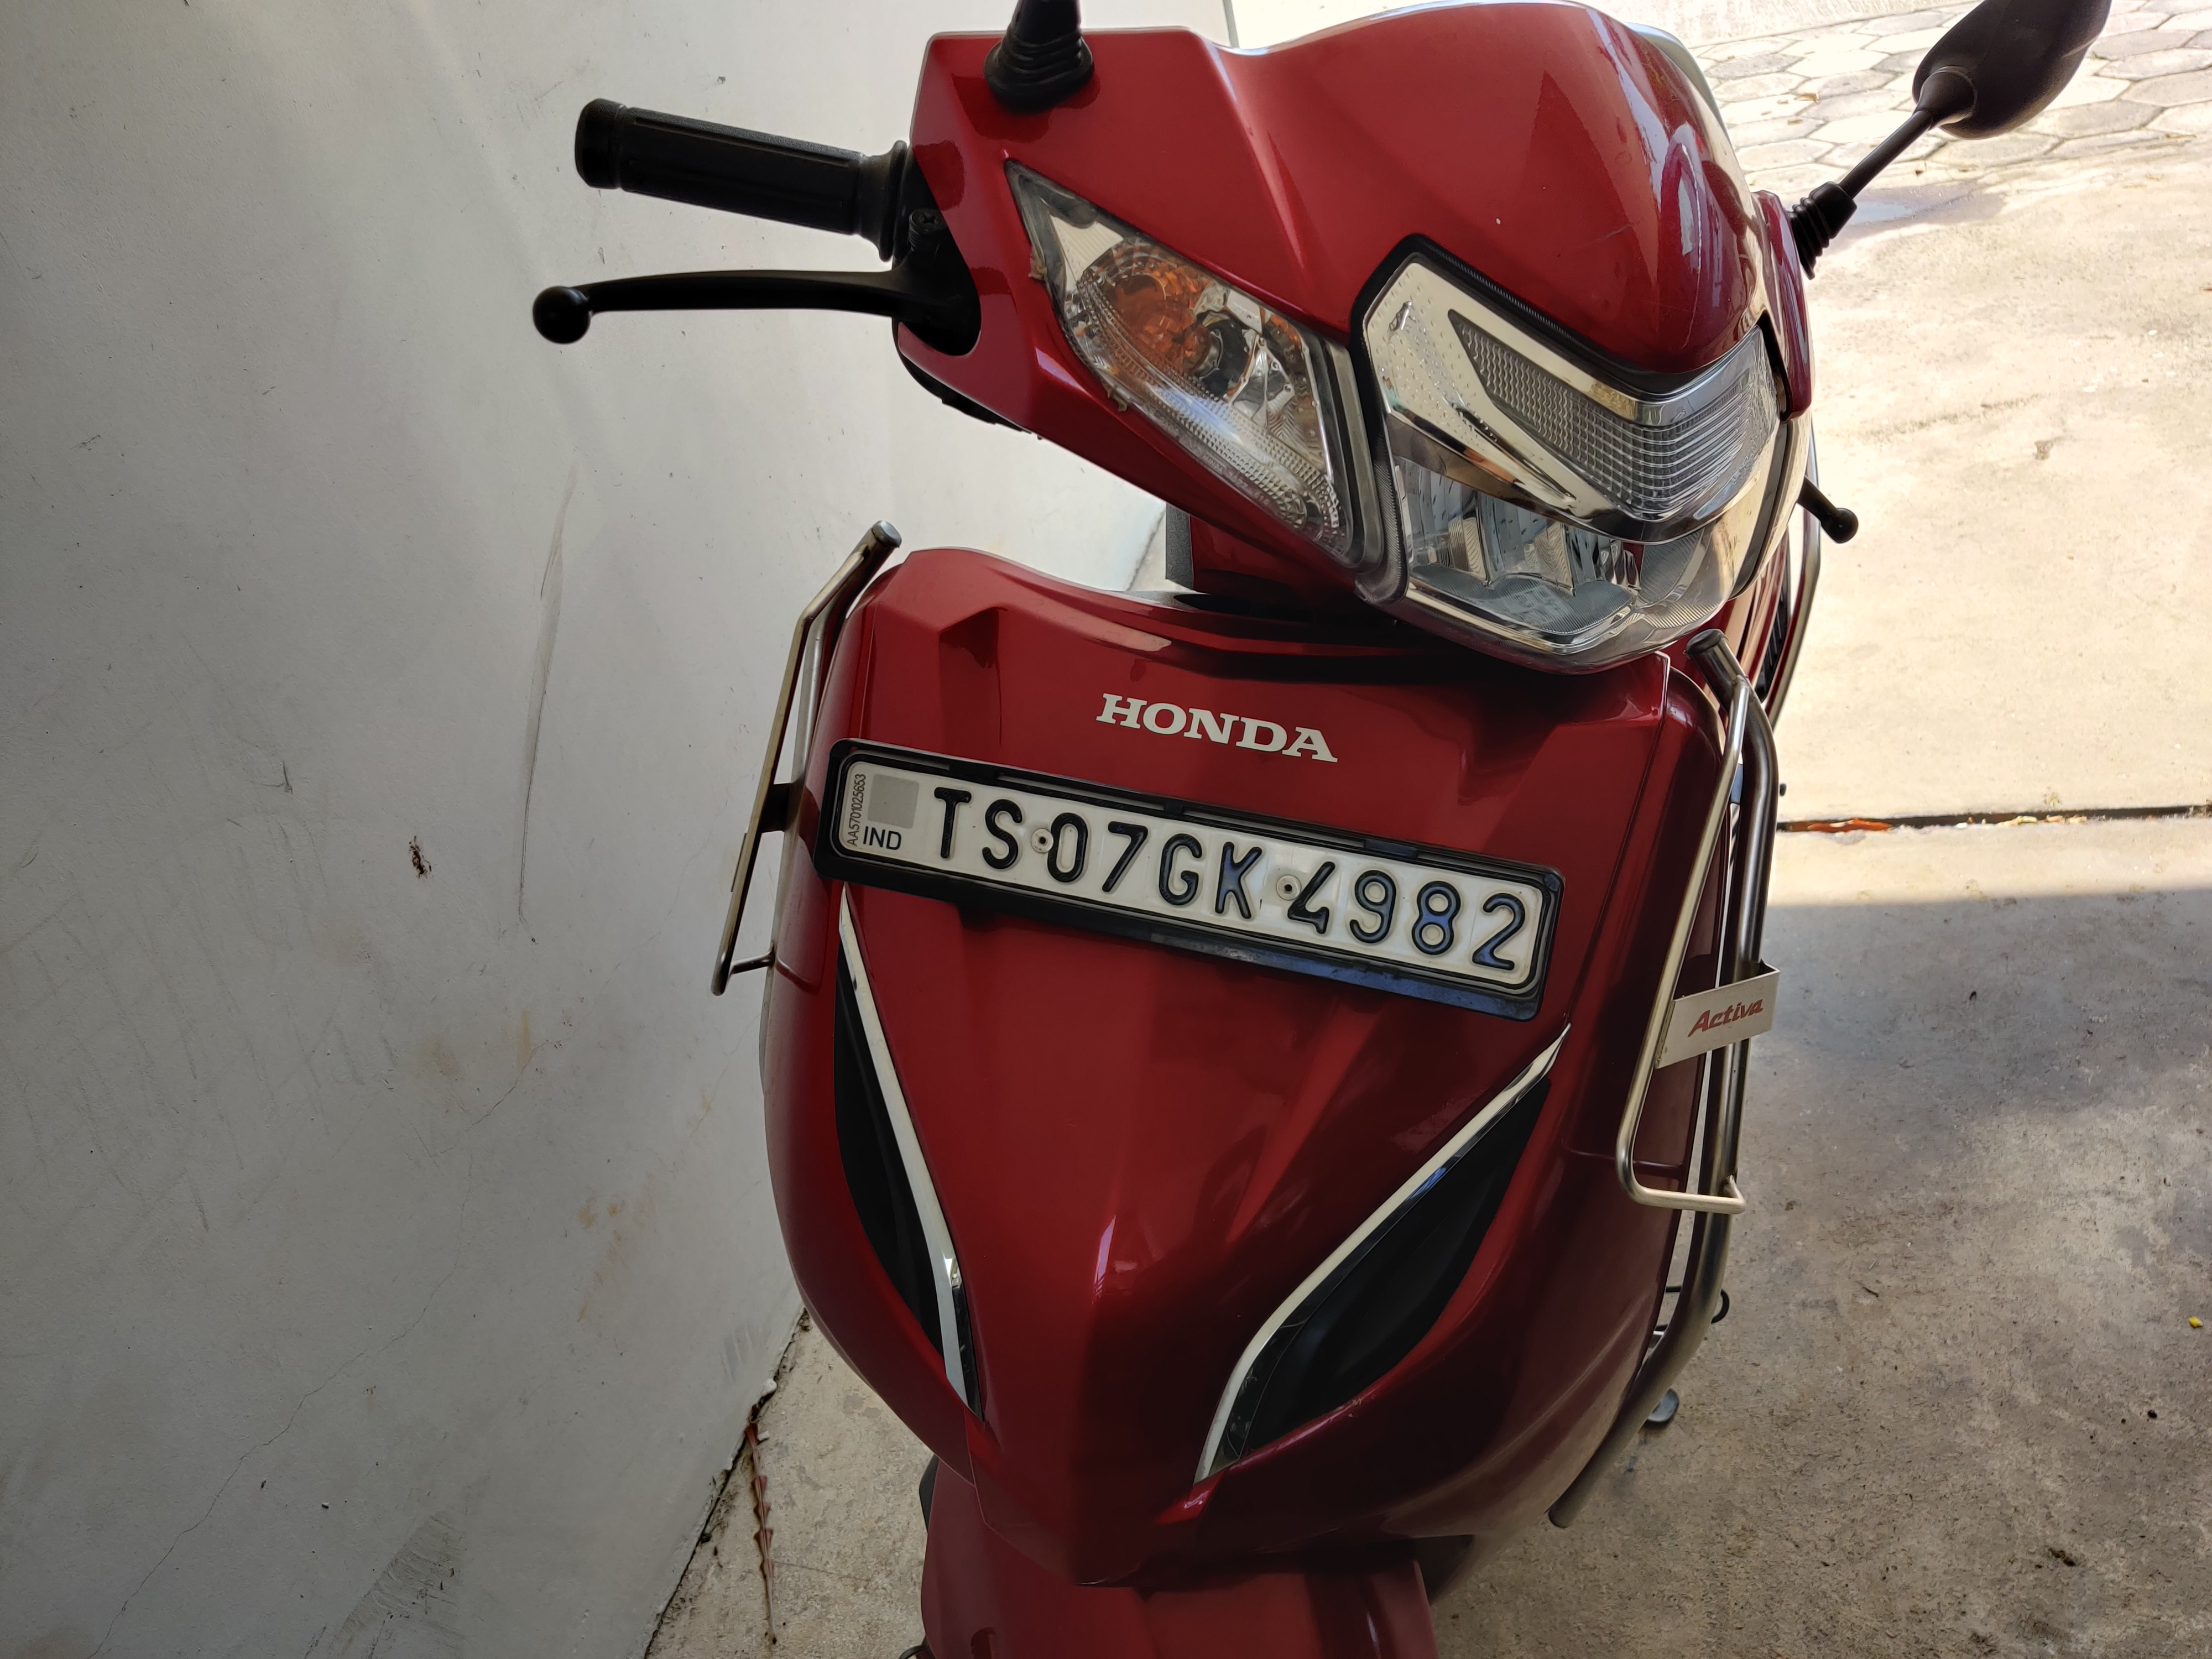plate: (788, 712, 1631, 1066)
